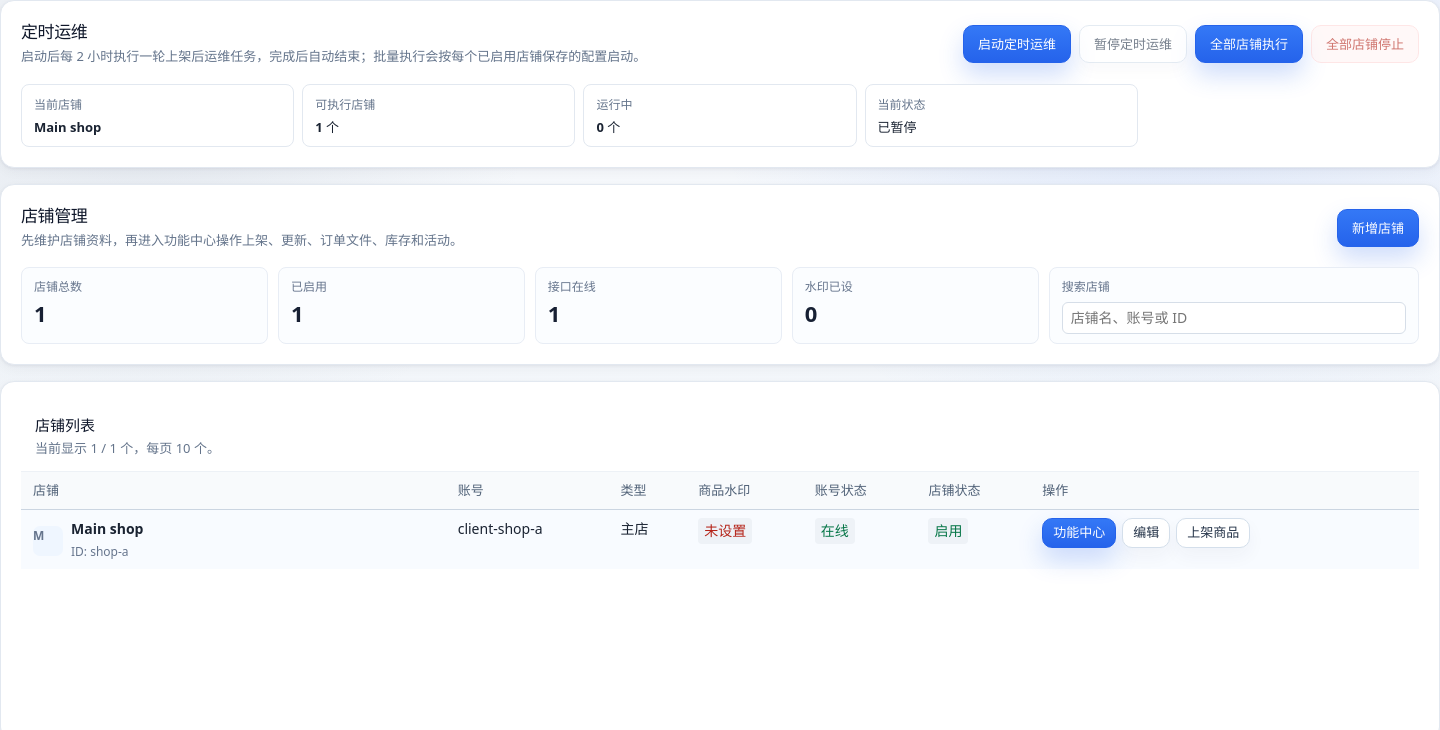
Test case: OzonPage › renders the compact feature menu without descriptions
Click the button "功能中心" at x=1079, y=533, box 1042,518 -> 1116,548
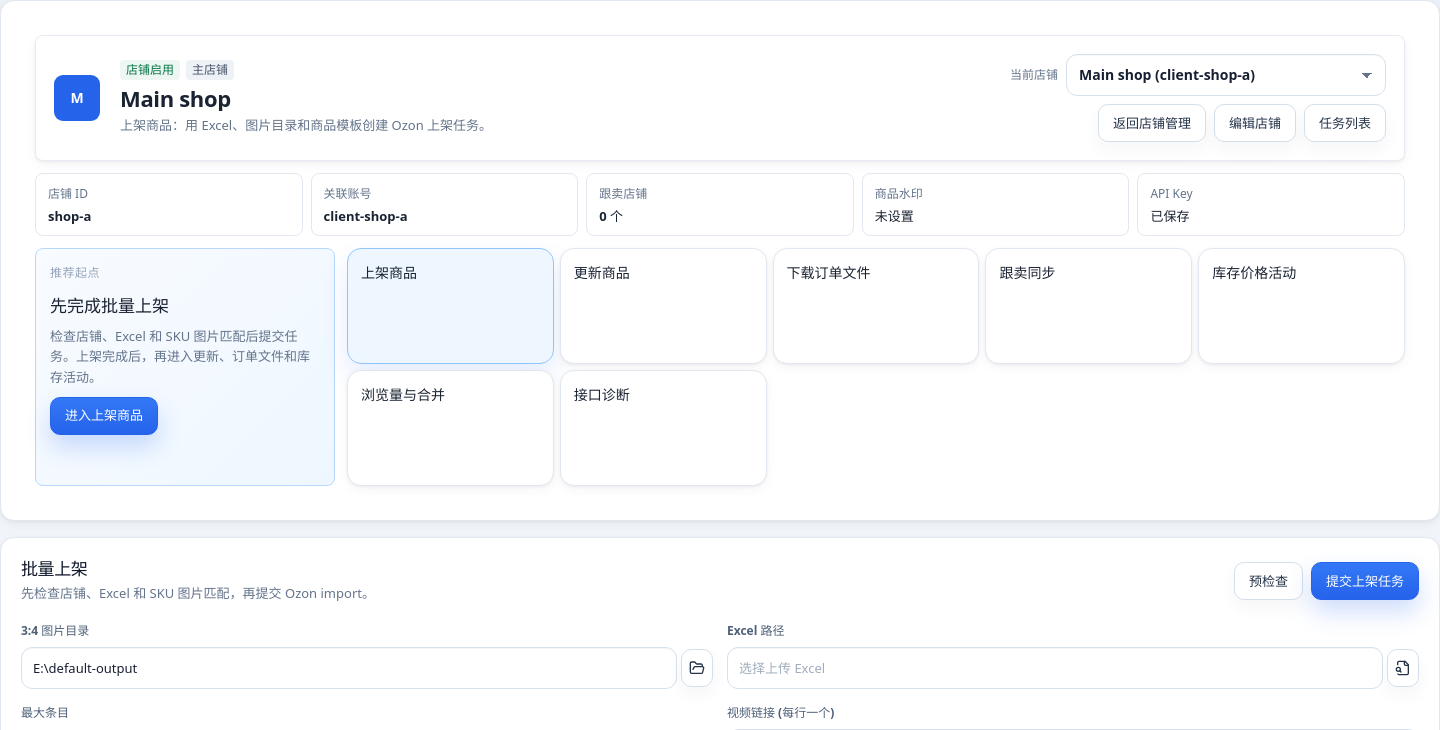
Click the button "更新商品" at x=663, y=306, box 560,248 -> 767,364
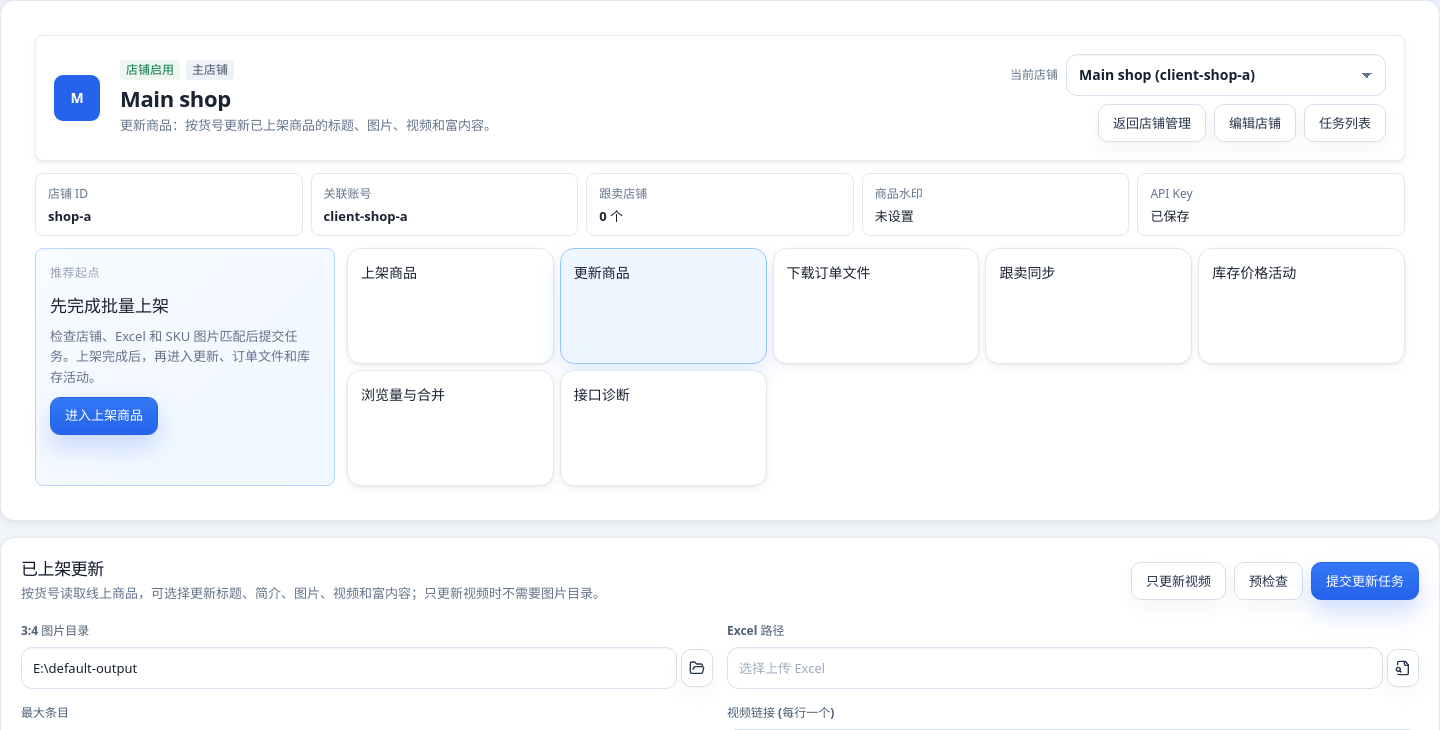
Check: the heading "已上架更新" is shown, box 21,557 -> 104,580
